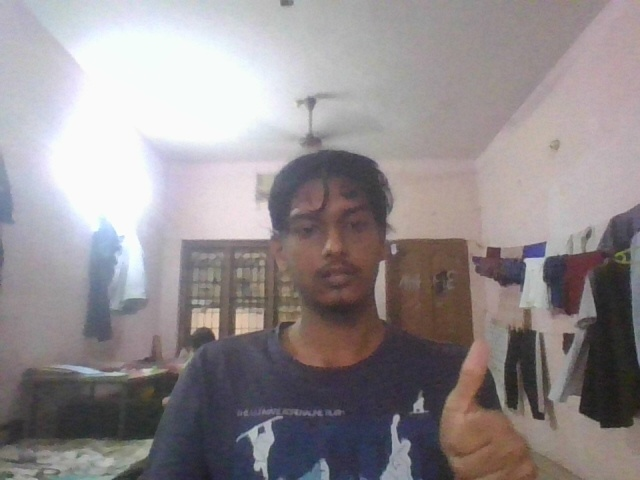thumbsup: (436, 335, 543, 480)
